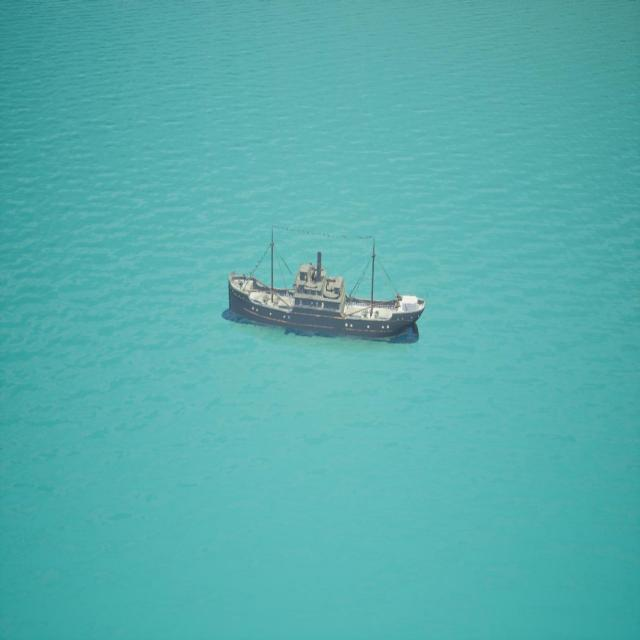fishing ship: (227, 232, 425, 342)
